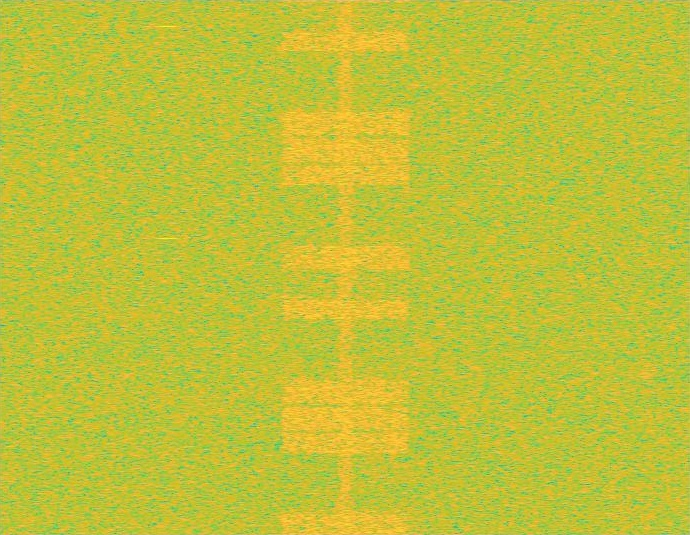DSSS: (336, 0, 355, 534)
LTE: (277, 0, 415, 534)
Radar: (160, 0, 174, 534)
